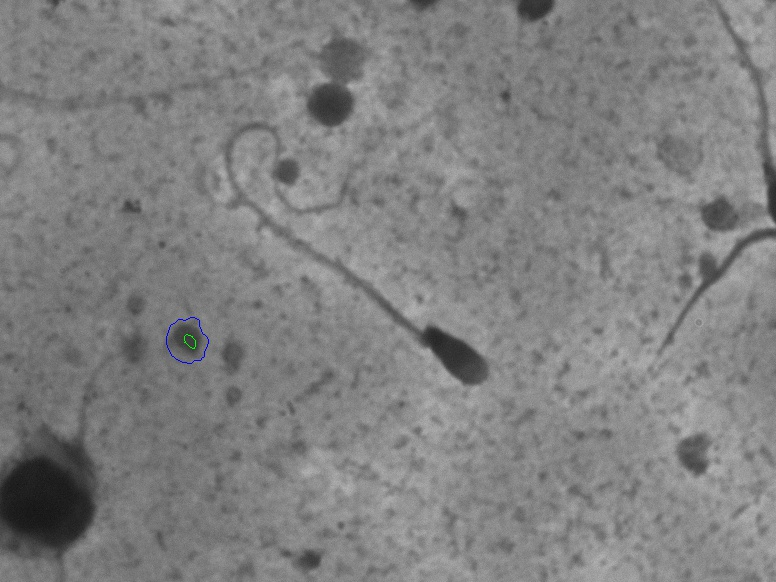Abnormal: (219, 111, 523, 405)
